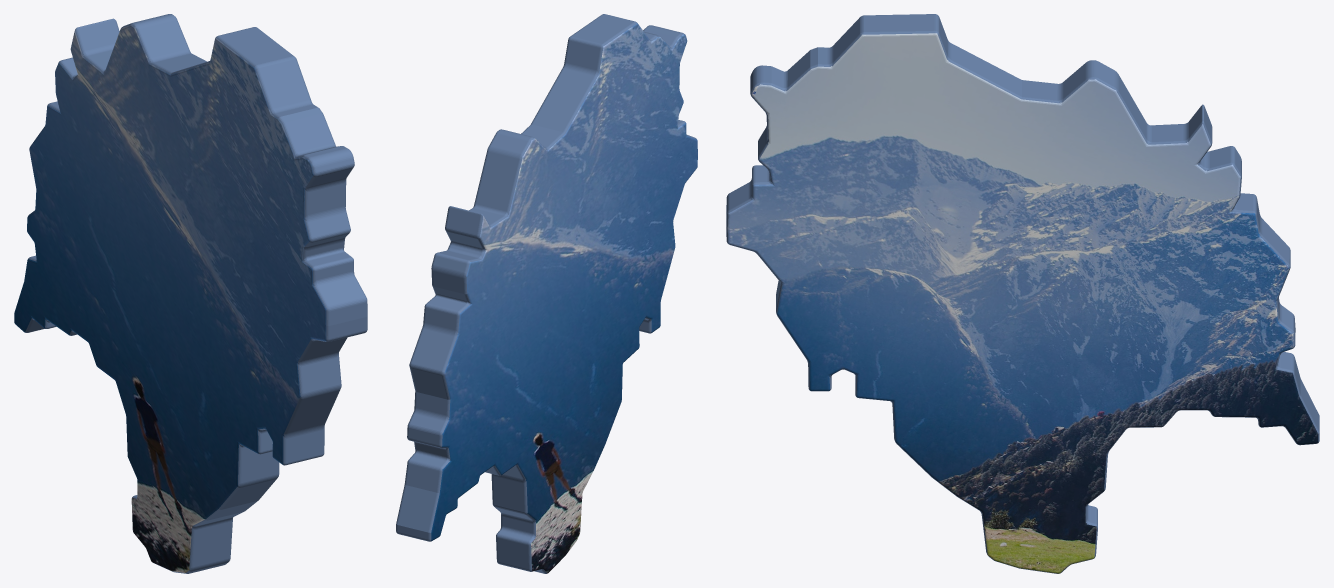
Rendered from Himachal Pradesh.glb.
3 views of the same model, side by side, from view 1: azimuth 30°, elevation 25°; view 2: azimuth 150°, elevation 25°; view 3: azimuth 270°, elevation 25° (orthographic). The views are drawn at different scales.
Visible parts, largest first — view 1: Object_10; view 2: Object_10; view 3: Object_10.
Boxes of the visible parts, x1=… form: Object_10: x1=14, y1=14, x2=367, y2=573; Object_10: x1=396, y1=14, x2=697, y2=573; Object_10: x1=726, y1=14, x2=1319, y2=573.
Bounding box in the file's own units: 0.0358 × 0.4541 × 0.4501.
1 material, 1 textured.
